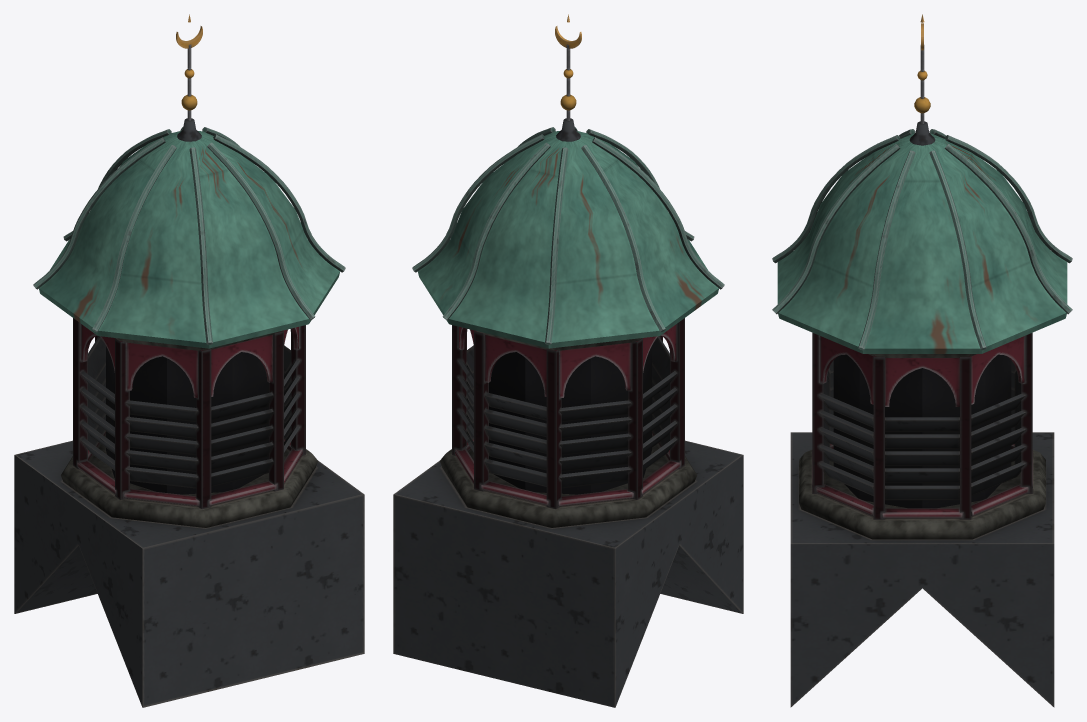
File: Cupola.fbx
3 renders of one model, left to right at view 1: azimuth 30°, elevation 25°; view 2: azimuth 150°, elevation 25°; view 3: azimuth 270°, elevation 25°, orthographic. The views are drawn at different scales.
Parts seen in each view (by area): view 1: Cupola_Main, Cupola_Copper; view 2: Cupola_Main, Cupola_Copper; view 3: Cupola_Main, Cupola_Copper.
Part boxes in pixels (left/top/right/bottom): Cupola_Main: left=14, top=14, right=364, bottom=707; Cupola_Copper: left=38, top=130, right=340, bottom=348; Cupola_Main: left=393, top=14, right=743, bottom=707; Cupola_Copper: left=417, top=130, right=719, bottom=348; Cupola_Main: left=772, top=14, right=1072, bottom=707; Cupola_Copper: left=777, top=133, right=1067, bottom=353.
Size of the model in its own units: 399 by 934 by 399.
